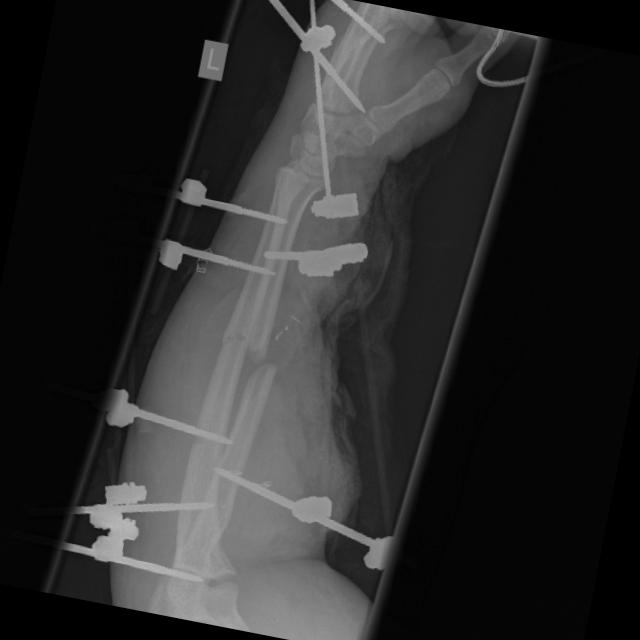forearm fracture: (175, 290, 319, 432)
